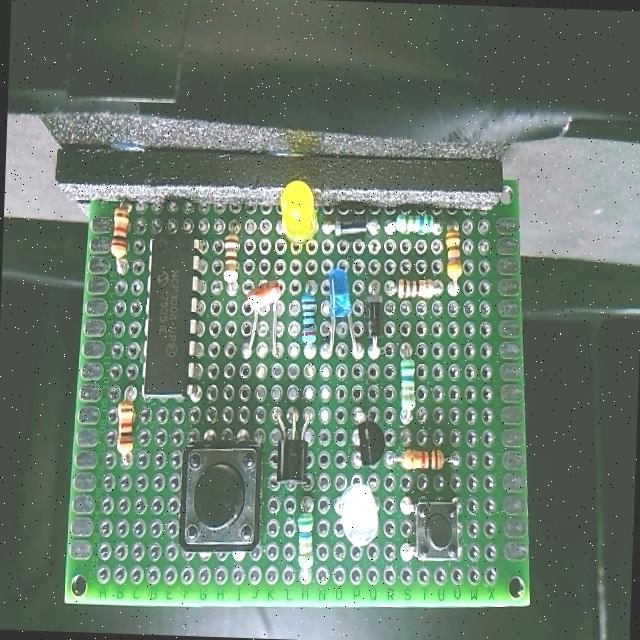IC: (138, 228, 208, 408)
cds: (236, 270, 286, 365)
diode: (360, 269, 386, 365), (318, 202, 380, 238)
led: (319, 264, 367, 366), (329, 474, 387, 549), (272, 174, 323, 246)
resistor: (112, 376, 144, 470), (286, 492, 317, 588), (380, 198, 442, 242), (291, 273, 322, 360), (384, 440, 466, 472), (217, 210, 244, 300), (438, 217, 467, 300), (106, 192, 134, 277), (393, 340, 420, 426), (380, 270, 447, 303)
switch: (173, 429, 269, 567), (394, 488, 471, 567)
transistor: (262, 402, 321, 488), (344, 402, 390, 471)
